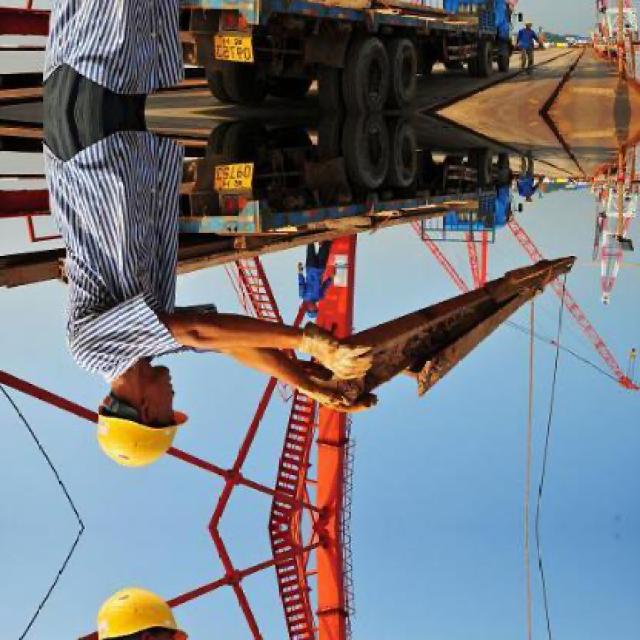con casco: (77, 328, 207, 498)
